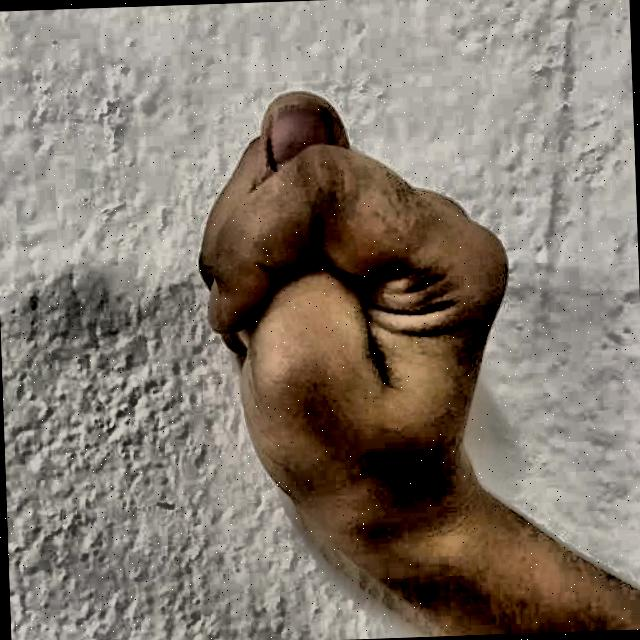Ta: (141, 37, 573, 624)
